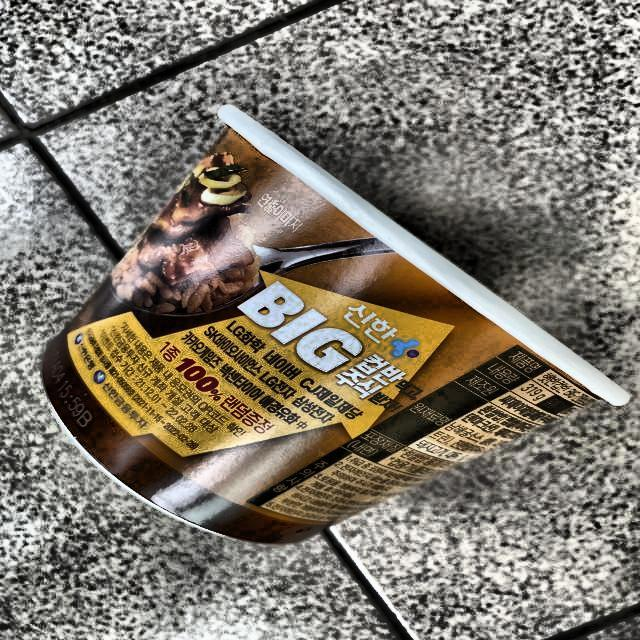plastic: (41, 107, 625, 547)
